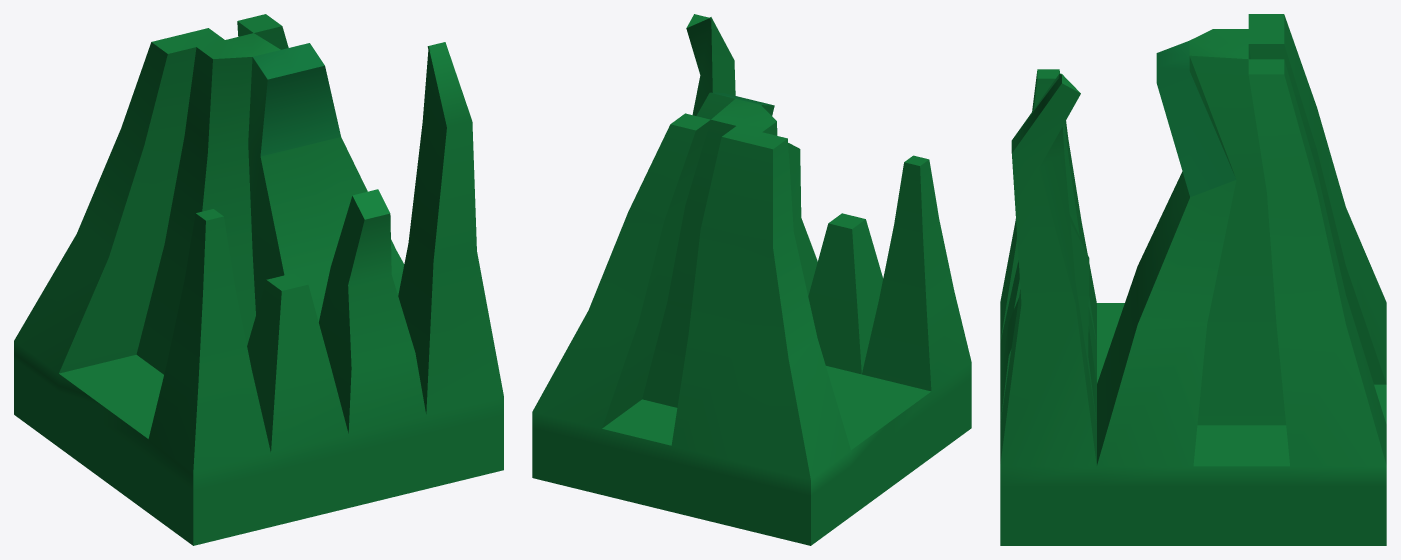
File: Ieproj_grass.fbx
3 renders of one model, left to right at view 1: azimuth 30°, elevation 25°; view 2: azimuth 150°, elevation 25°; view 3: azimuth 270°, elevation 25°, orthographic. The views are drawn at different scales.
Visible parts, largest first — view 1: grass281; view 2: grass281; view 3: grass281.
Part boxes in pixels (x1,y1,x2,y2): grass281: (14,14,503,545); grass281: (532,14,971,545); grass281: (1000,14,1386,545).
Bounding box in the file's own units: 0.7207 × 0.9204 × 0.7207.
